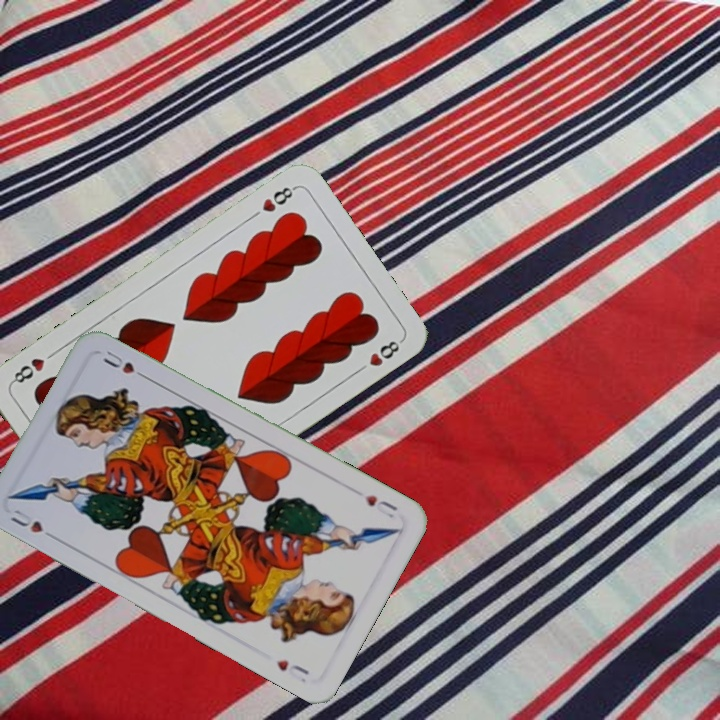H8: (258, 182, 299, 215)
HU: (6, 503, 60, 543), (361, 490, 400, 521)
